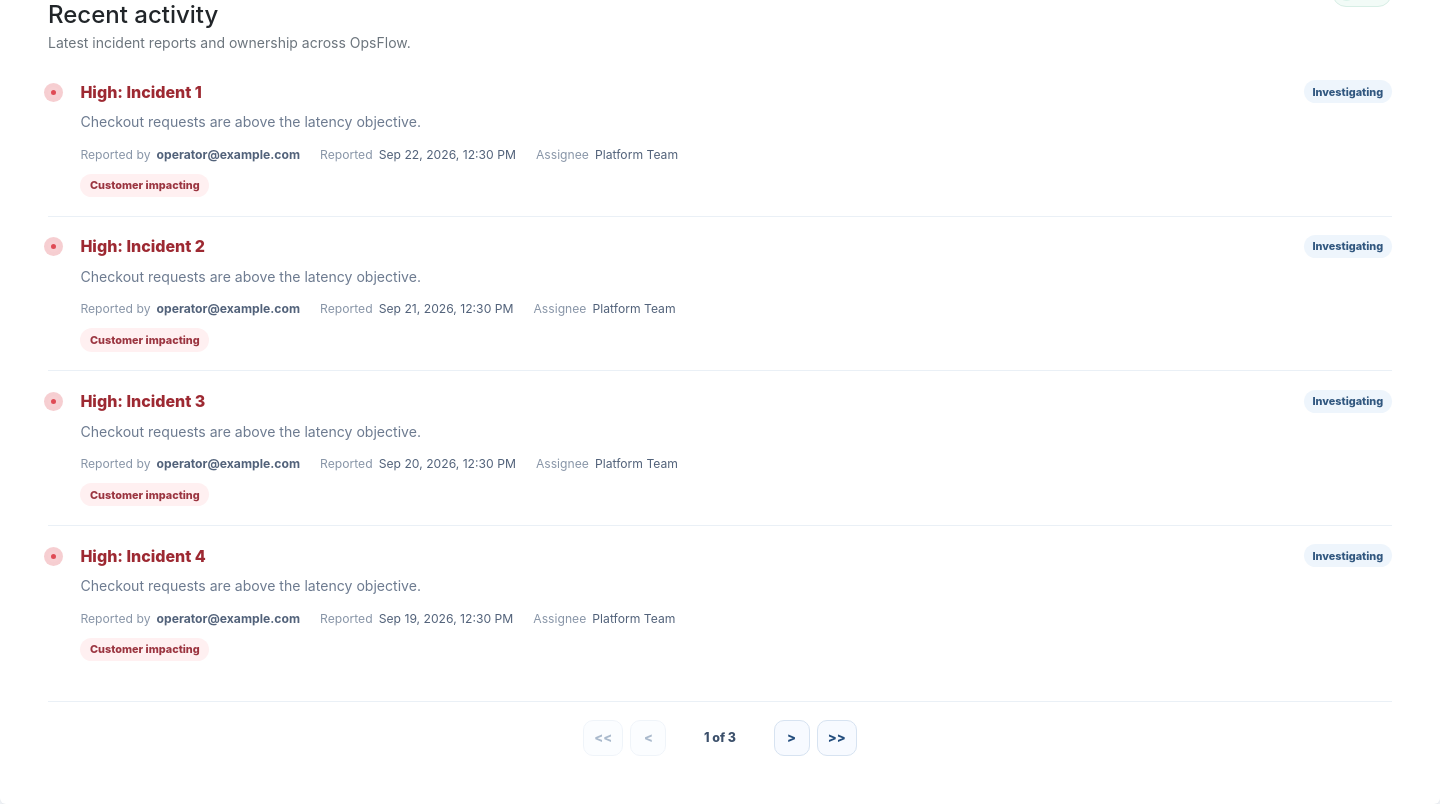
it: RecentActivity › supports next, previous, first, and last page navigation
This screenshot has width=1440, height=804.
(page scrolled)
Expected: the text "1 of 3" is shown, [704,730,736,745]
Expected: the button named "Go to first page" is disabled, [583,720,623,756]
Step 1. Click the button named "Go to next page" → click(792, 738), box [774,720,810,756]
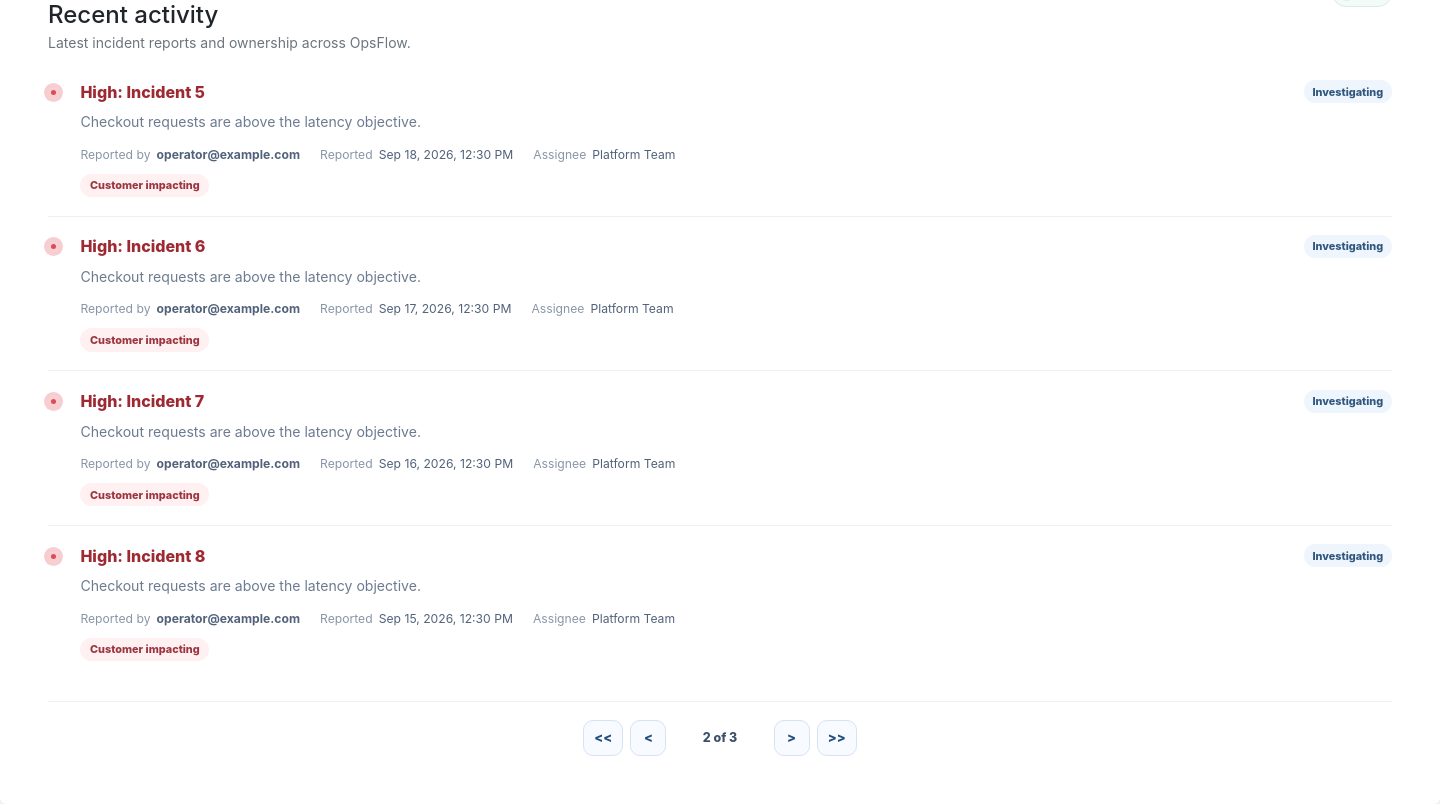
Now the text "2 of 3" is shown, box [703,730,737,745]
Now the text "Incident 5" is shown, box [126,82,205,102]
Now the text "Incident 1" is gone
Step 2. Click the button named "Go to last page" → click(837, 738), box [817,720,857,756]
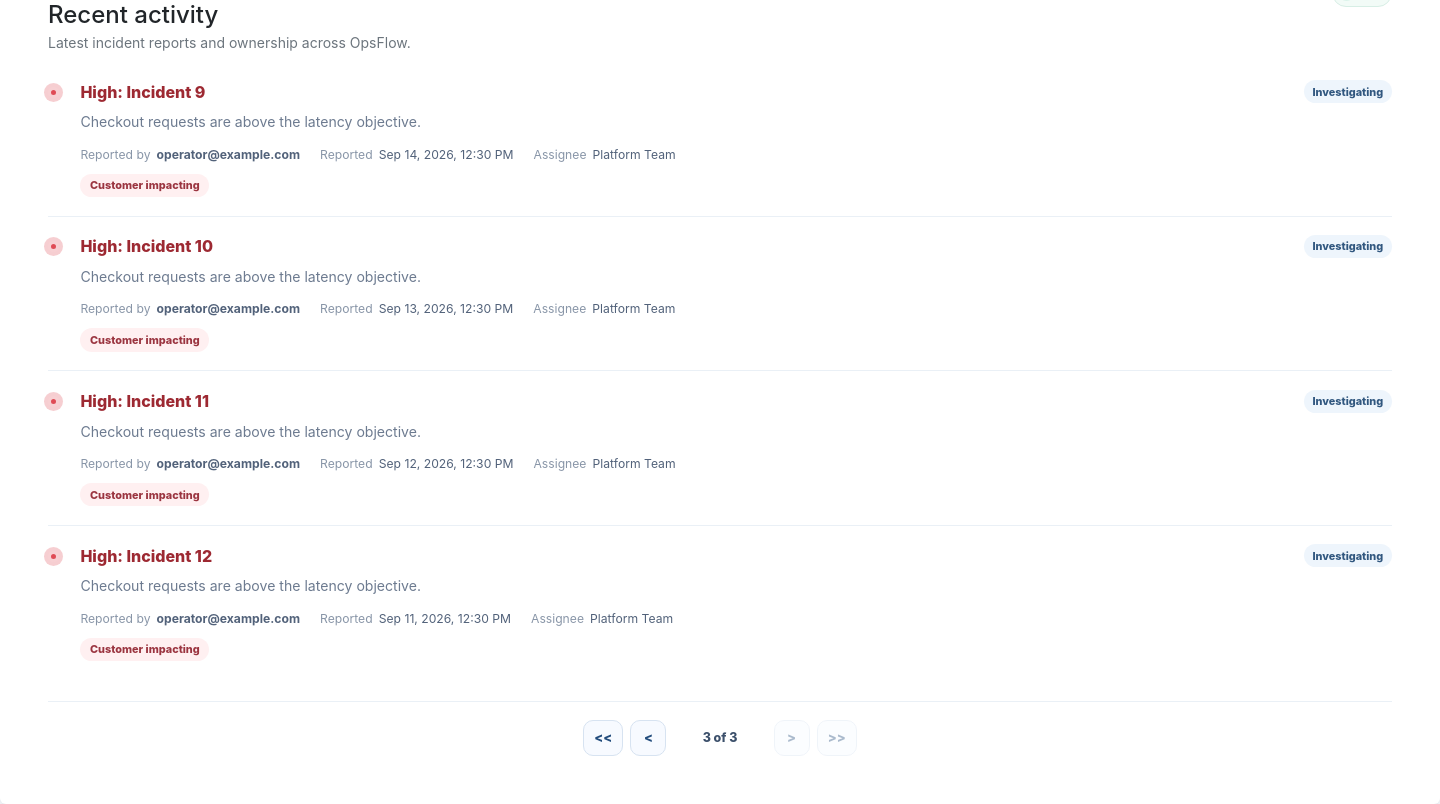
Now the text "3 of 3" is shown, box [703,730,737,745]
Now the text "Incident 9" is shown, box [126,82,205,102]
Now the text "Incident 12" is shown, box [126,546,212,566]
Step 3. Click the button named "Go to previous page" → click(648, 738), box [630,720,666,756]
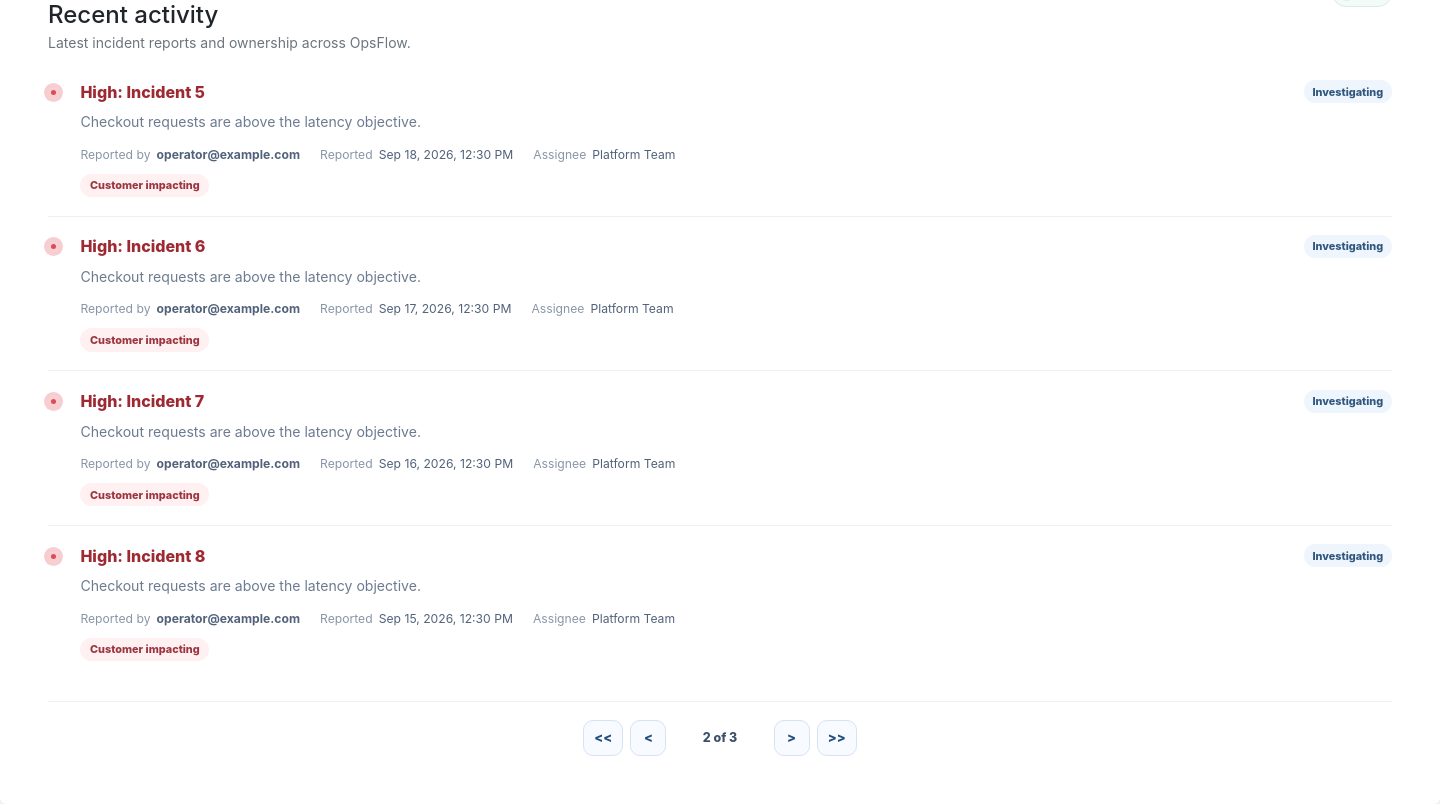
Now the text "2 of 3" is shown, box [703,730,737,745]
Step 4. Click the button named "Go to first page" → click(603, 738), box [583,720,623,756]
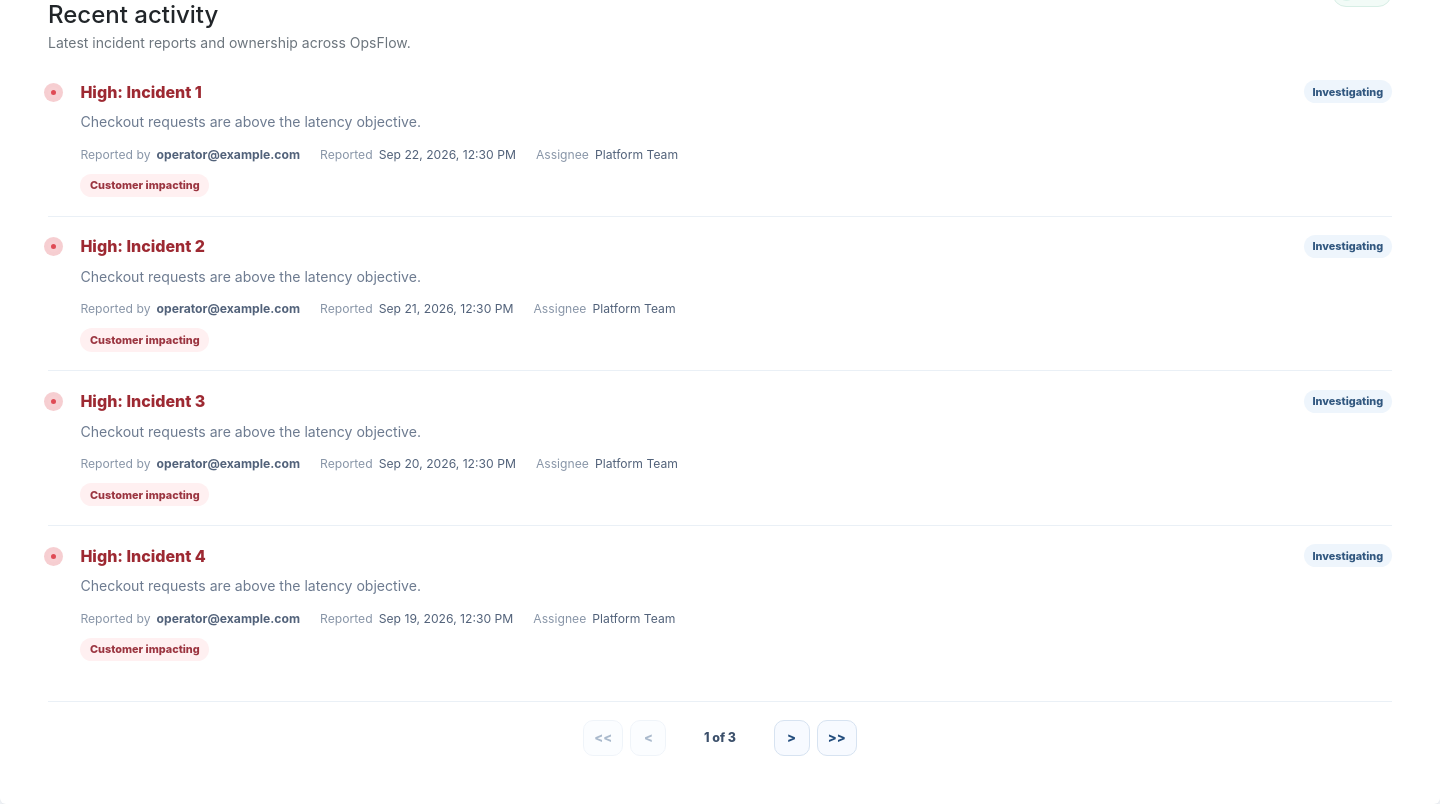
Now the text "1 of 3" is shown, box [704,730,736,745]
Now the text "Incident 1" is shown, box [126,82,202,102]
